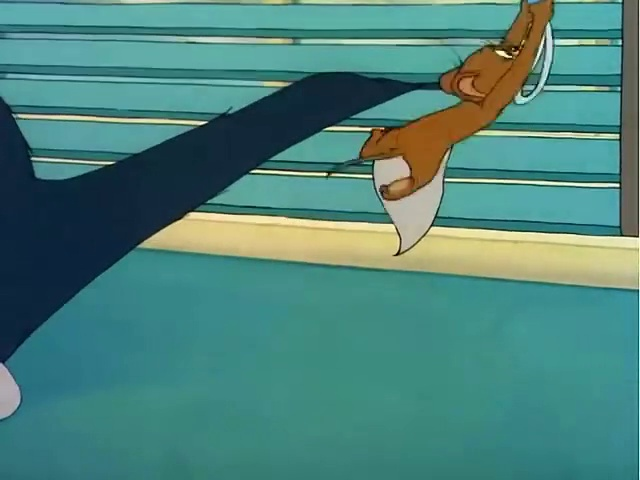jerry: (316, 1, 587, 254)
